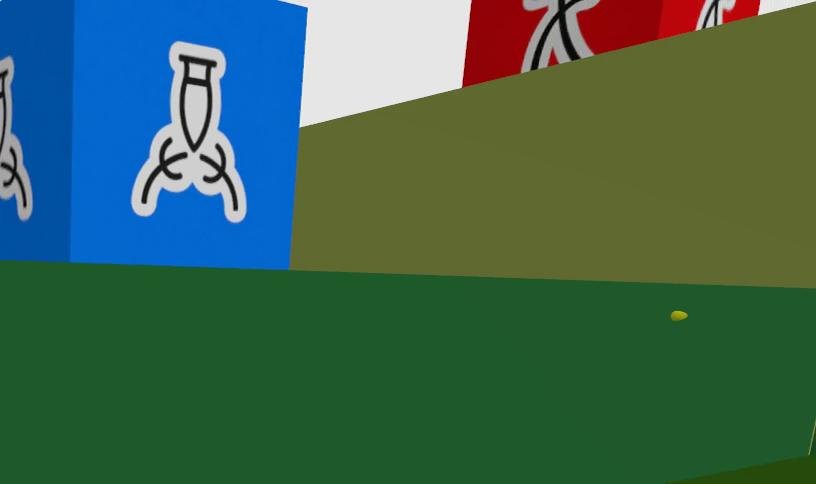KFS_REAL: (0, 0, 306, 268), (462, 0, 759, 86), (131, 41, 246, 223), (520, 0, 599, 71), (0, 57, 33, 221), (657, 0, 758, 36)
